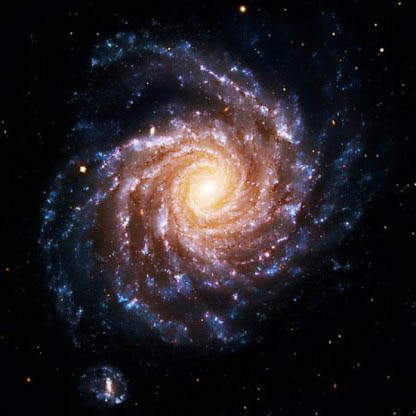NGC 1232: (43, 22, 375, 401)
